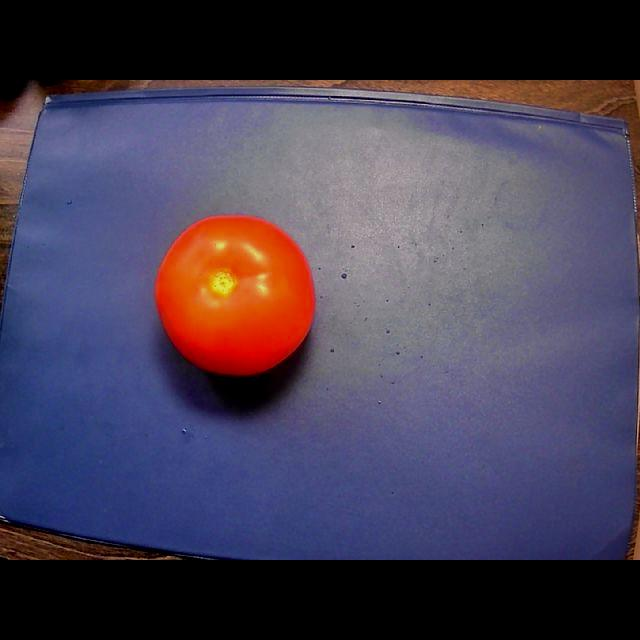tomate: (155, 215, 314, 375)
